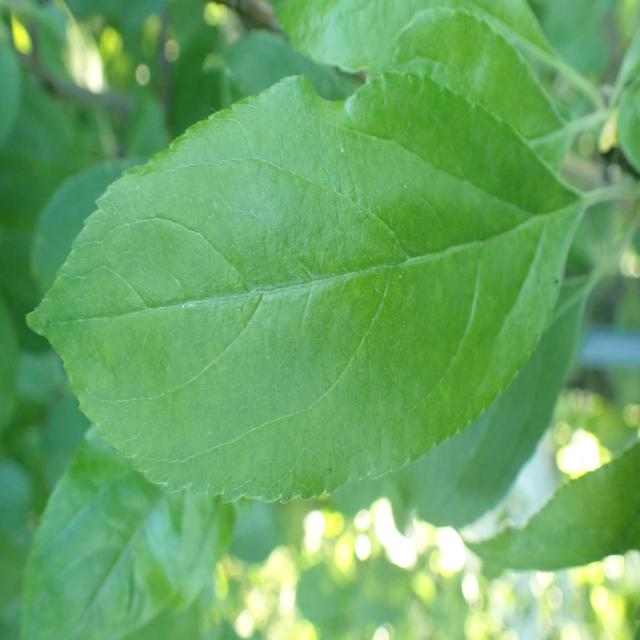healthy: (25, 68, 584, 505)
